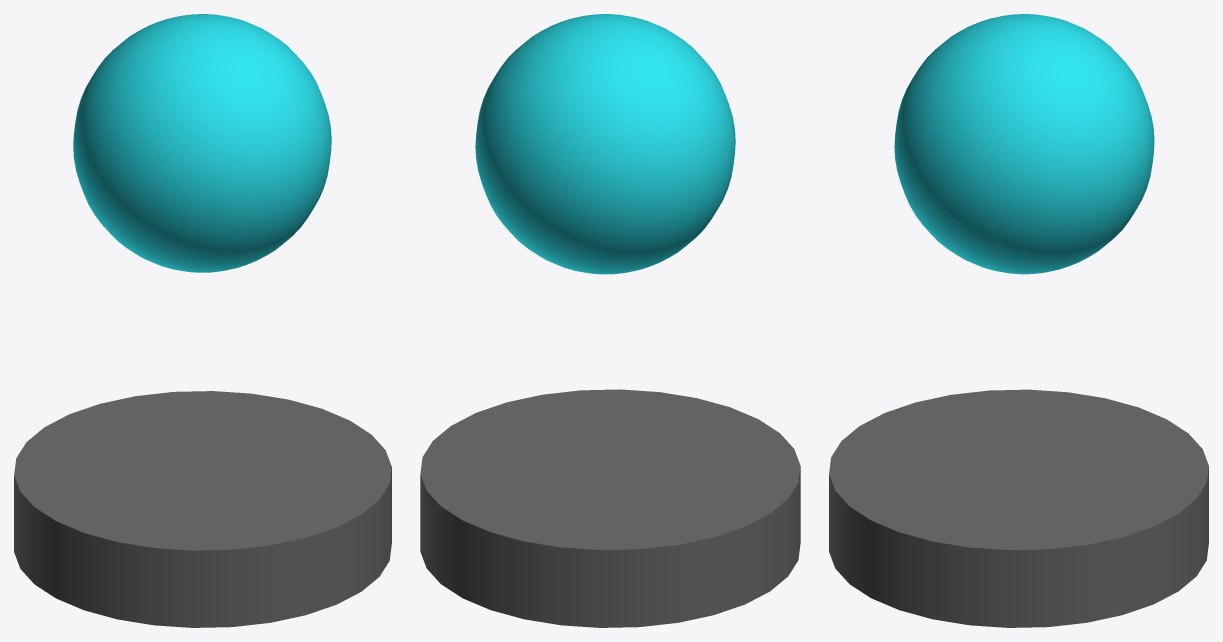
Rendered from sphBlue.glb.
3 renders of one model, left to right at view 1: azimuth 30°, elevation 25°; view 2: azimuth 150°, elevation 25°; view 3: azimuth 270°, elevation 25°, orthographic.
Parts seen in each view (by area): view 1: 031_Cylinder_-_baked_3, 030_Sphere; view 2: 031_Cylinder_-_baked_3, 030_Sphere; view 3: 031_Cylinder_-_baked_3, 030_Sphere.
Boxes of the visible parts, x1,y1,x2,y2 form: 031_Cylinder_-_baked_3: (14, 391, 391, 627); 030_Sphere: (73, 14, 331, 272); 031_Cylinder_-_baked_3: (420, 389, 800, 627); 030_Sphere: (475, 14, 735, 274); 031_Cylinder_-_baked_3: (829, 389, 1208, 627); 030_Sphere: (894, 14, 1154, 274).
Size of the model in its own units: 17.32 by 26.29 by 17.32.
